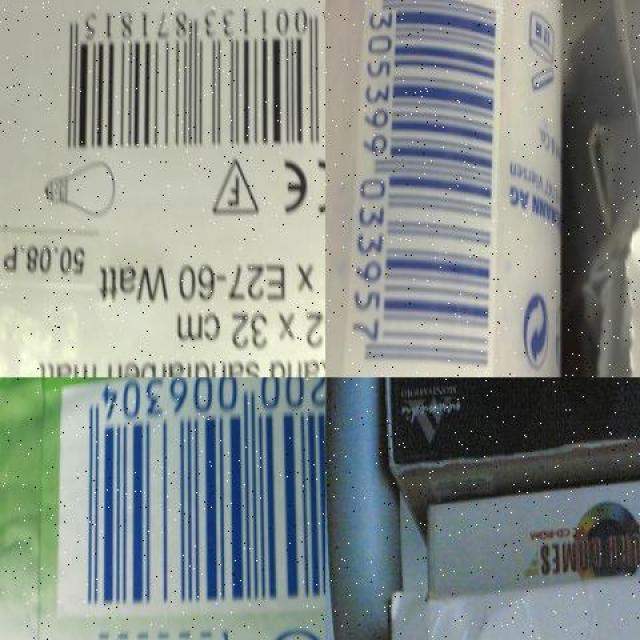Barcode: (57, 377, 326, 616), (342, 0, 500, 377), (47, 0, 325, 163)
